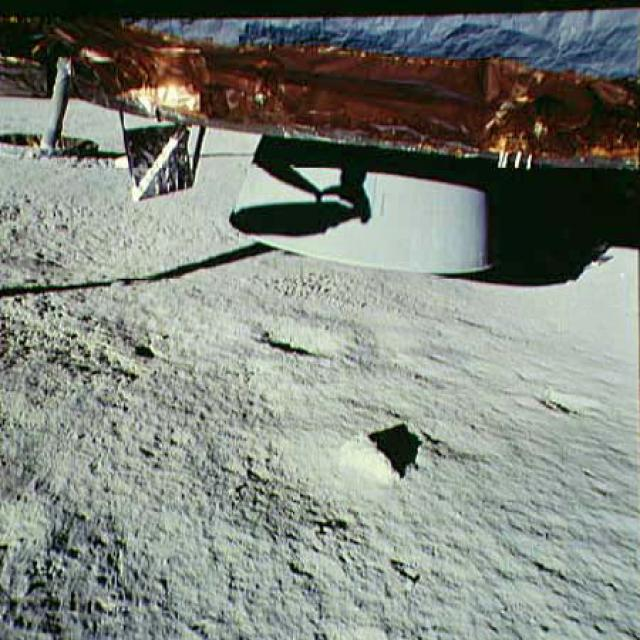crater: (218, 304, 354, 380), (516, 375, 620, 431)
rock: (321, 417, 403, 492)
